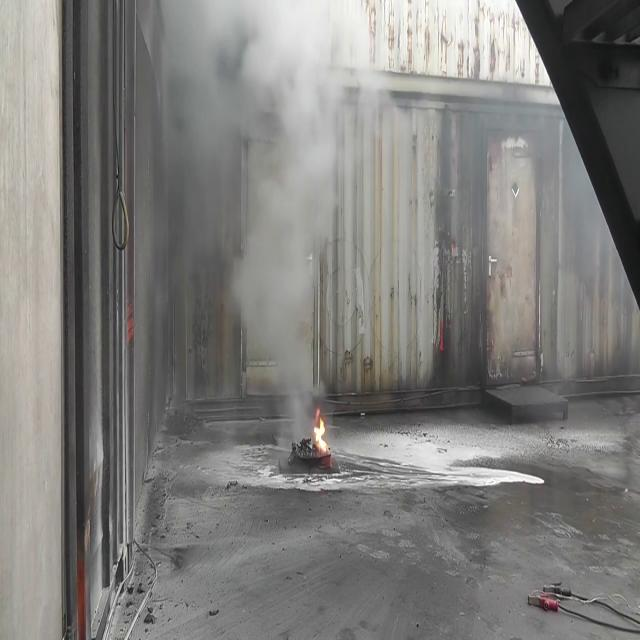Fire: (310, 405, 332, 461)
Smoke: (143, 1, 352, 432)
